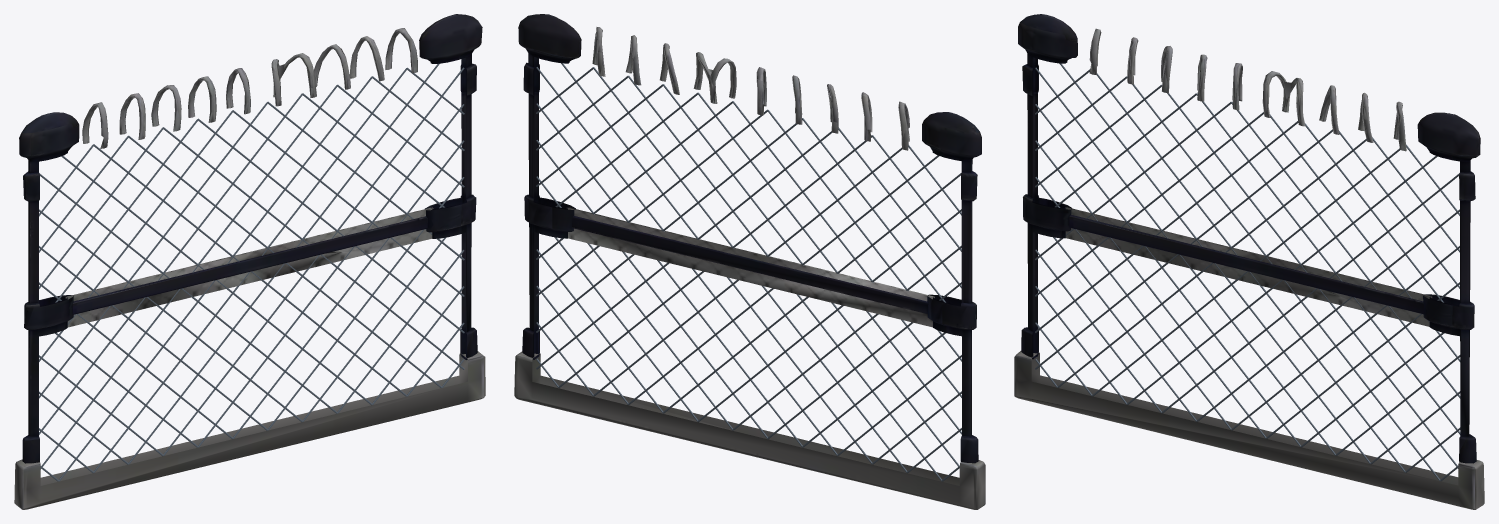
File: fence-straight.glb
3 views of the same model, side by side, from view 1: azimuth 30°, elevation 25°; view 2: azimuth 150°, elevation 25°; view 3: azimuth 330°, elevation 25° (orthographic).
Parts seen in each view (by area): view 1: meshy-fence-straight, open chain link.028, open chain link.029, open chain link.030, open chain link.031, open chain link.027, open chain link.011, open chain link.032, open chain link.026, open chain link.009, open chain link.010, open chain link.012 (+11 smaller); view 2: meshy-fence-straight, open chain link.028, open chain link.029, open chain link.030, open chain link.031, open chain link.027, open chain link.032, open chain link.026, open chain link.009, open chain link.010, open chain link.011, open chain link.008 (+9 smaller); view 3: meshy-fence-straight, open chain link.009, open chain link.010, open chain link.011, open chain link.008, open chain link.012, open chain link.007, open chain link.028, open chain link.030, open chain link.029, open chain link.013, open chain link.031 (+11 smaller).
Part boxes in pixels (bbox=[...]): meshy-fence-straight: bbox=[14, 14, 485, 509]; open chain link.028: bbox=[59, 76, 372, 481]; open chain link.029: bbox=[93, 68, 407, 472]; open chain link.030: bbox=[128, 63, 439, 464]; open chain link.031: bbox=[163, 67, 464, 455]; open chain link.027: bbox=[40, 85, 337, 469]; open chain link.011: bbox=[128, 135, 442, 388]; open chain link.032: bbox=[198, 104, 464, 447]; open chain link.026: bbox=[39, 93, 302, 434]; open chain link.009: bbox=[61, 156, 372, 405]; open chain link.010: bbox=[93, 144, 407, 396]; open chain link.012: bbox=[163, 127, 464, 369]; meshy-fence-straight: bbox=[514, 14, 985, 509]; open chain link.028: bbox=[628, 76, 941, 481]; open chain link.029: bbox=[593, 67, 907, 472]; open chain link.030: bbox=[561, 63, 872, 464]; open chain link.031: bbox=[536, 67, 837, 455]; open chain link.027: bbox=[663, 84, 959, 466]; open chain link.032: bbox=[536, 103, 802, 447]; open chain link.026: bbox=[698, 93, 961, 434]; open chain link.009: bbox=[628, 155, 939, 405]; open chain link.010: bbox=[593, 147, 902, 396]; open chain link.011: bbox=[558, 135, 872, 388]; open chain link.008: bbox=[663, 173, 961, 413]; meshy-fence-straight: bbox=[1014, 14, 1484, 509]; open chain link.009: bbox=[1060, 63, 1370, 463]; open chain link.010: bbox=[1097, 73, 1405, 472]; open chain link.011: bbox=[1127, 77, 1440, 480]; open chain link.008: bbox=[1035, 67, 1335, 455]; open chain link.012: bbox=[1161, 86, 1458, 468]; open chain link.007: bbox=[1035, 104, 1300, 446]; open chain link.028: bbox=[1057, 139, 1366, 387]; open chain link.030: bbox=[1127, 156, 1437, 404]; open chain link.029: bbox=[1092, 148, 1399, 396]; open chain link.013: bbox=[1196, 93, 1460, 434]; open chain link.031: bbox=[1161, 173, 1459, 413].
Bounding box in the file's own units: 4 × 3.2 × 0.18.
Materials: 2 (1 with a texture image).
